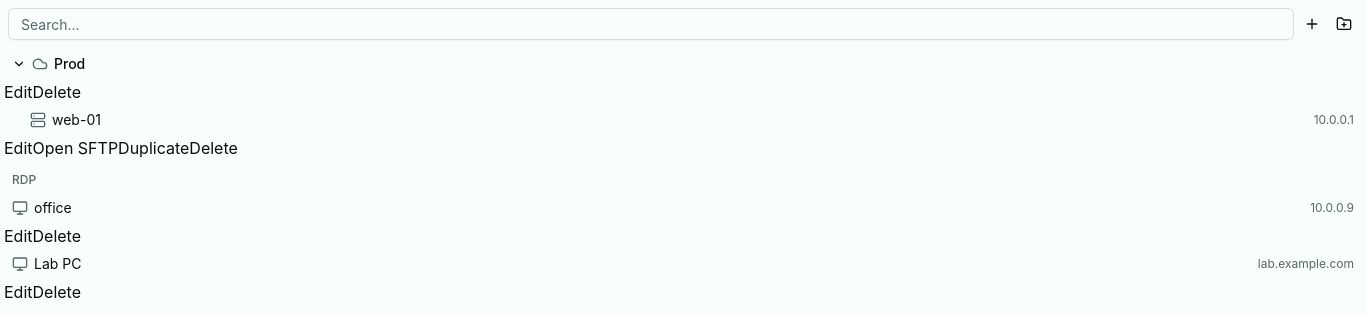
search filters RDP profiles by name
Type "LAB" into the field with placeholder "Search...".
click(651, 24); type("LAB")  # box [8,8,1294,40]
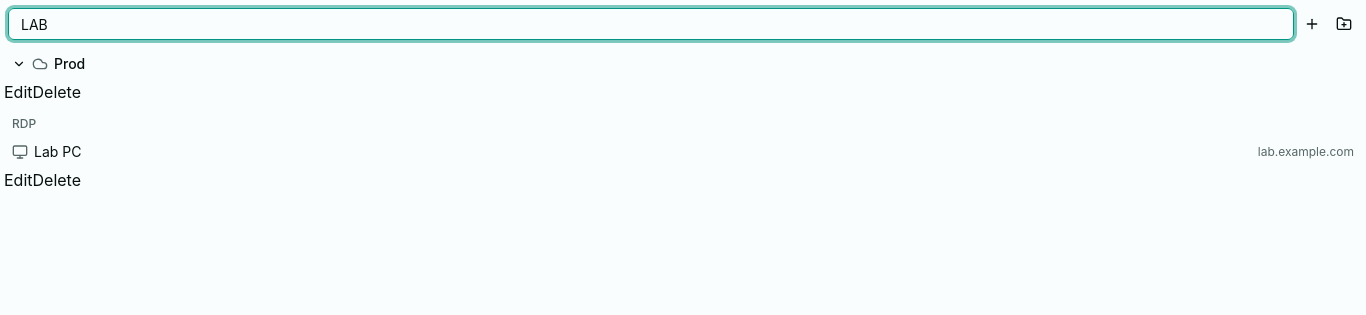
Check: the text "Lab PC" is shown, box [34,142,82,162]
Check: the button "office" is gone
